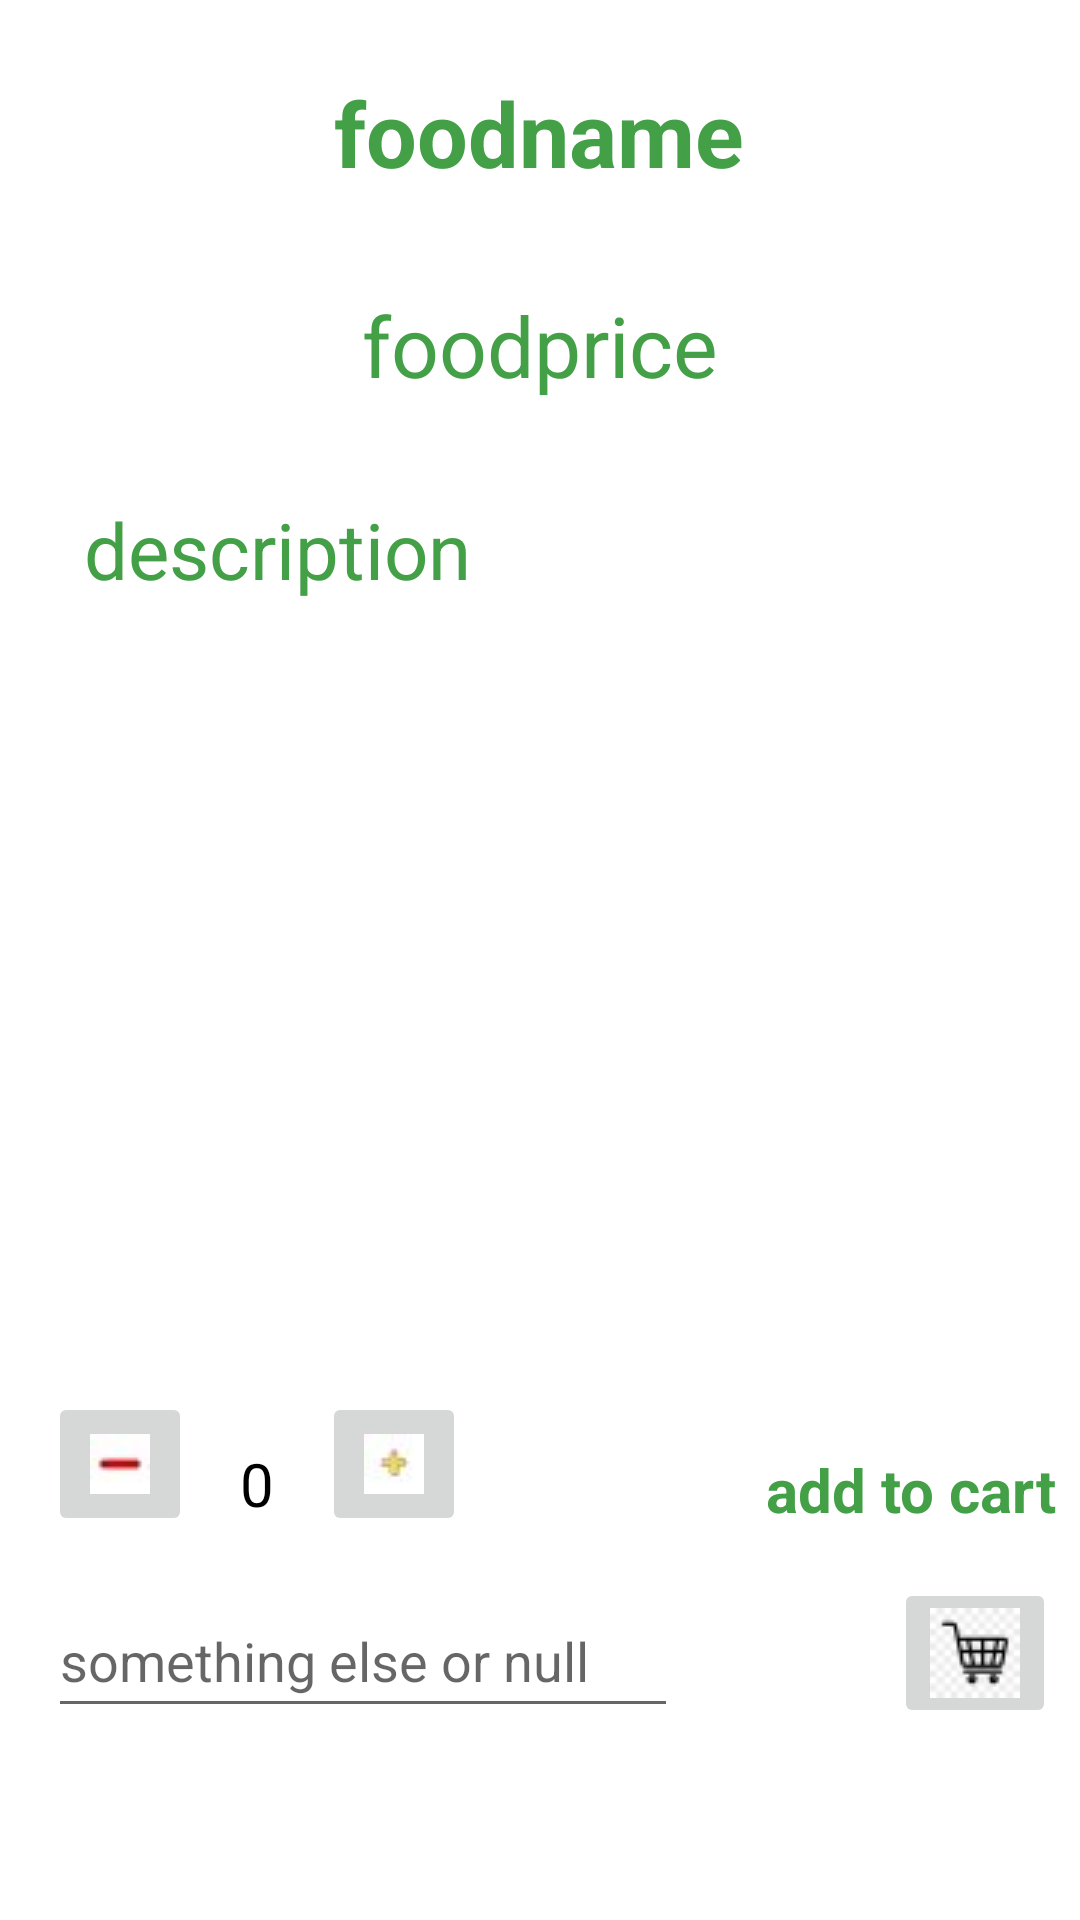

Point at icon controls on the screen. Image size 1080*1920, points as (x,y).
plus: (394,1464)
sub: (120,1464)
